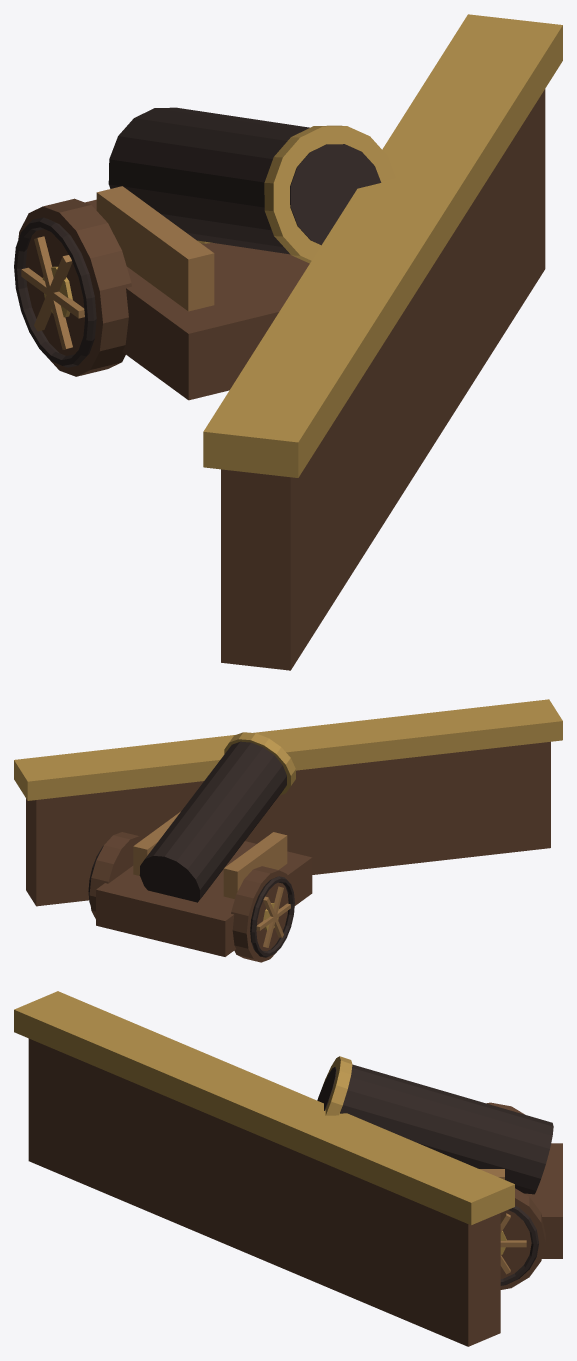
Rendered from PirateCove_CannonBank_Showcase.glb.
3 renders of one model, top to bottom at view 1: azimuth 30°, elevation 25°; view 2: azimuth 150°, elevation 25°; view 3: azimuth 270°, elevation 25°, orthographic. The views are drawn at different scales.
Visible parts, largest first — view 1: PirateCove_CannonBank_Showcase; view 2: PirateCove_CannonBank_Showcase; view 3: PirateCove_CannonBank_Showcase.
Part boxes in pixels (x1=…): PirateCove_CannonBank_Showcase: x1=14, y1=14, x2=562, y2=670; PirateCove_CannonBank_Showcase: x1=14, y1=699, x2=562, y2=962; PirateCove_CannonBank_Showcase: x1=14, y1=991, x2=562, y2=1346.
Bounding box in the file's own units: 2.42 × 0.9942 × 2.65.
